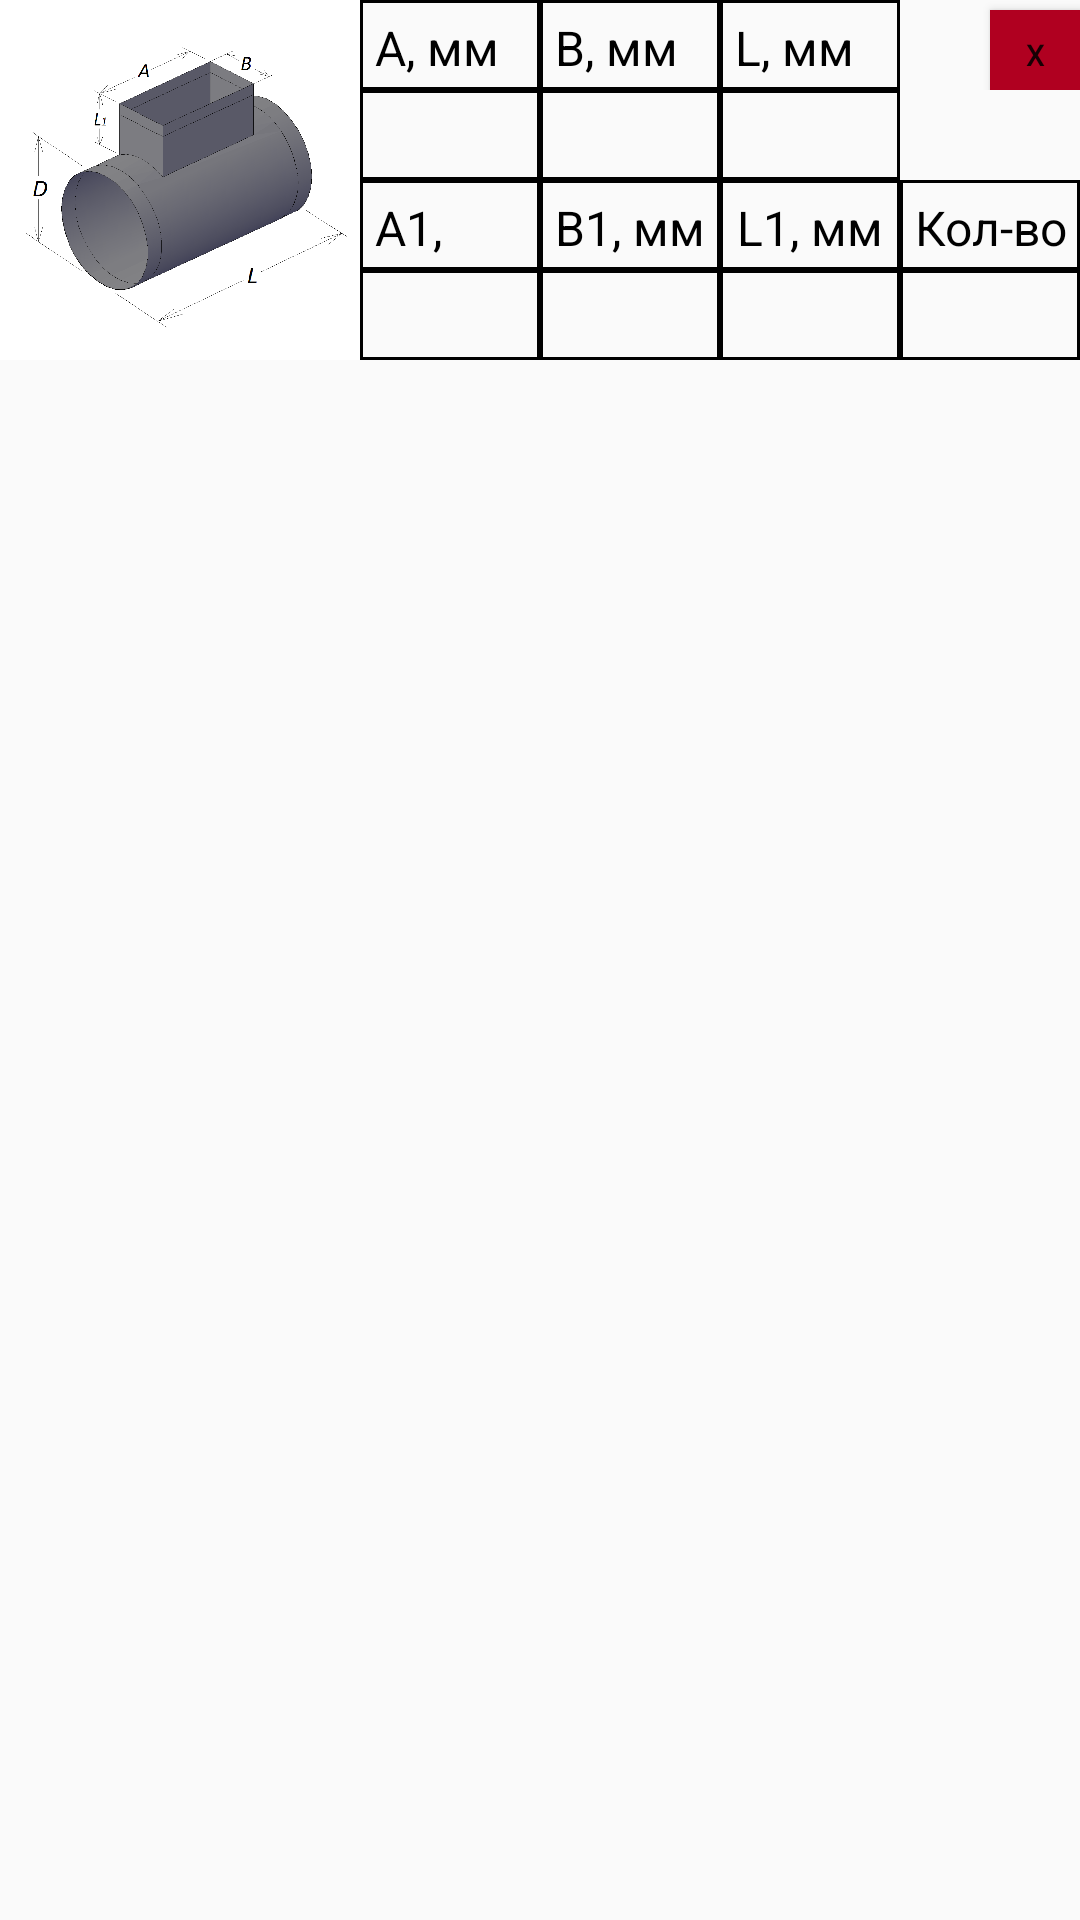

Named icons in this screenshot (1080x1920) and their centers, (x,y):
tee incut correction: (186,187)
